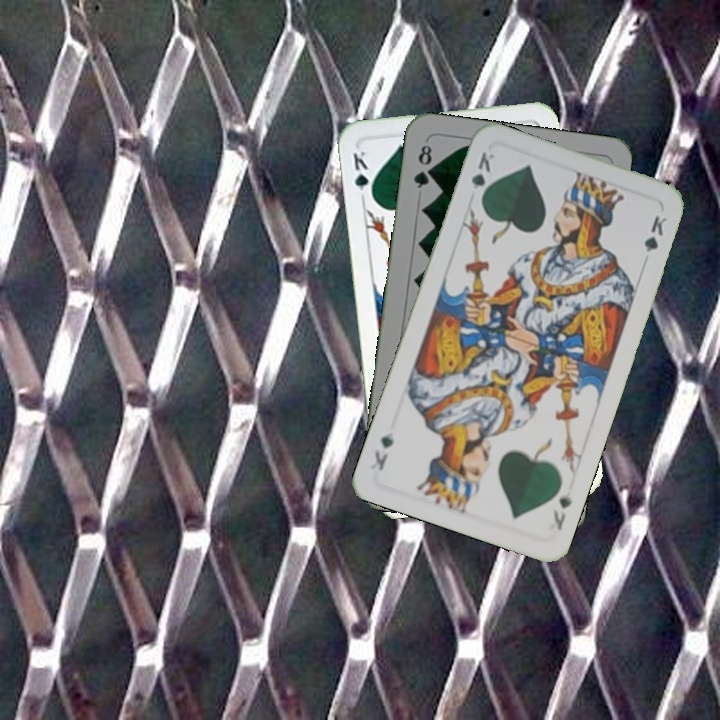G8: (409, 140, 435, 191)
GK: (467, 147, 498, 205), (349, 147, 375, 203), (545, 492, 574, 533)
